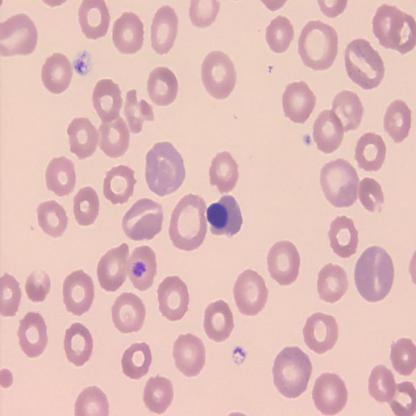NRC: (206, 193, 244, 238)
